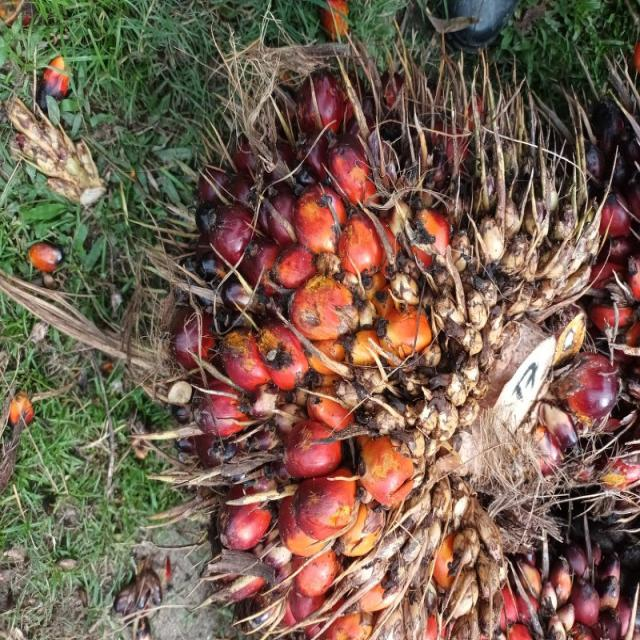fraksi 1: (30, 38, 506, 599)
